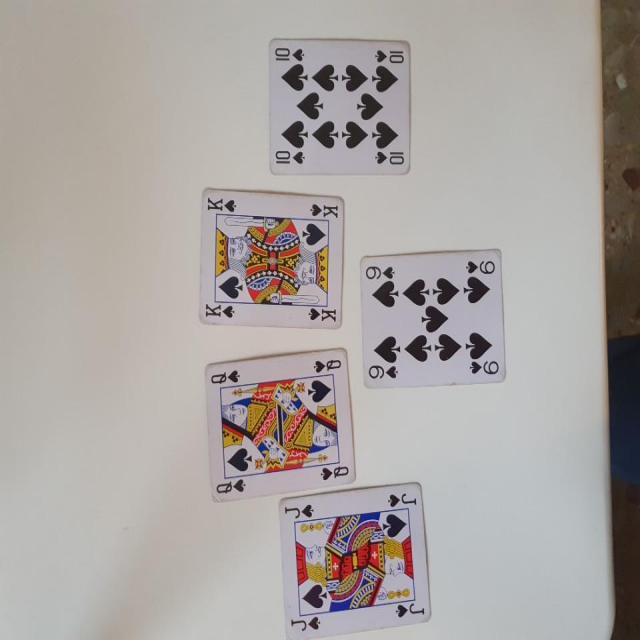10 of spades: (268, 36, 412, 177)
9 of spades: (358, 247, 514, 395)
jack of spades: (272, 480, 436, 638)
king of spades: (197, 185, 351, 330)
queen of spades: (198, 343, 360, 502)
